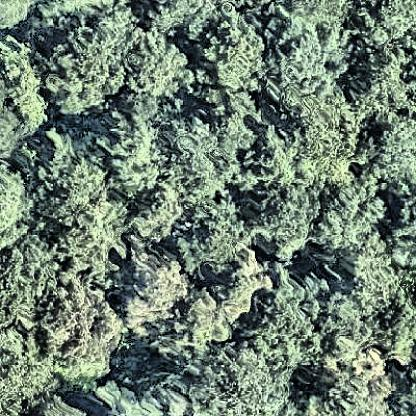tree-top: (44, 20, 198, 118), (120, 253, 267, 353), (316, 185, 404, 313), (255, 89, 364, 191), (37, 150, 126, 271), (44, 279, 133, 380), (297, 330, 399, 416), (159, 111, 253, 203), (189, 15, 275, 114), (1, 248, 51, 413), (180, 348, 292, 416), (267, 7, 352, 91), (259, 276, 330, 369), (182, 208, 251, 282), (116, 115, 174, 201), (355, 48, 416, 124), (262, 192, 317, 260), (1, 157, 41, 249), (5, 42, 50, 123), (369, 117, 416, 183), (357, 1, 416, 47), (132, 196, 185, 247), (1, 2, 37, 35)
